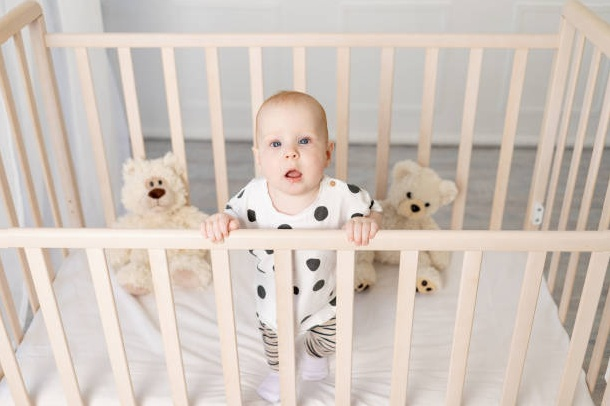baby: (201, 91, 381, 244)
crib: (80, 47, 466, 248)
